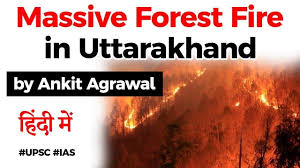fire: (232, 74, 300, 125), (118, 105, 168, 136), (167, 67, 205, 99)
smoke: (204, 98, 257, 135)
